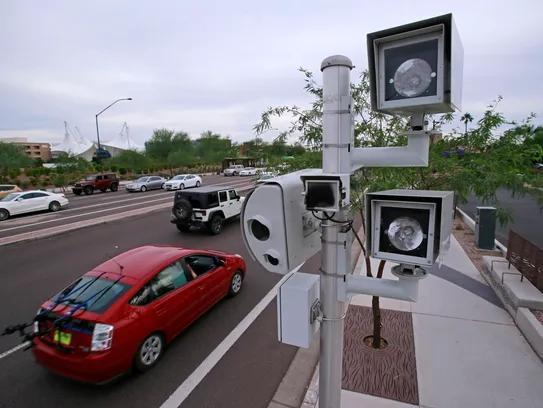Monitor: (366, 12, 463, 117), (369, 198, 438, 266), (302, 177, 341, 212)
